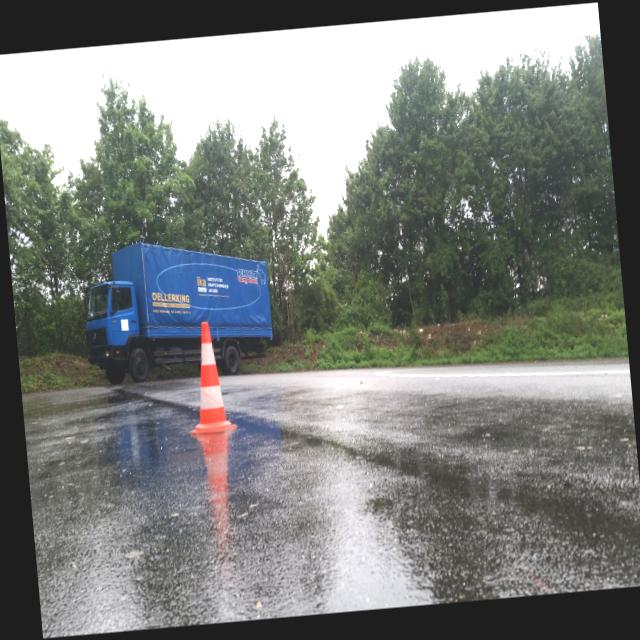large_orange_cone: (180, 320, 237, 434)
